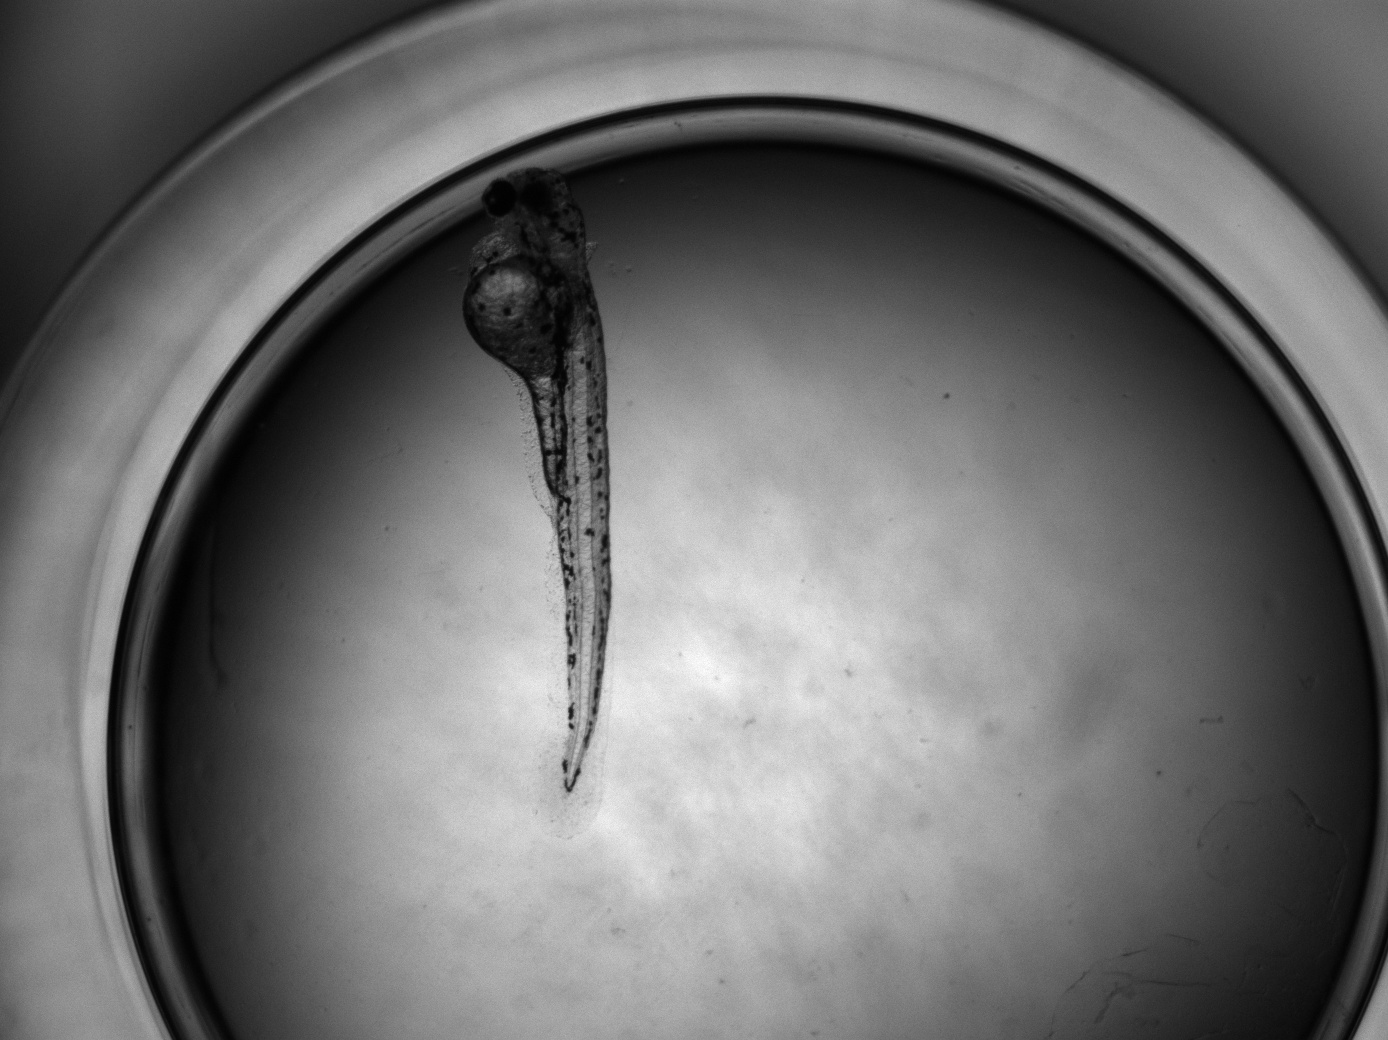embryo: (462, 167, 615, 795)
eye: (483, 179, 517, 217), (520, 181, 554, 217)
yolksac: (463, 255, 573, 374)
